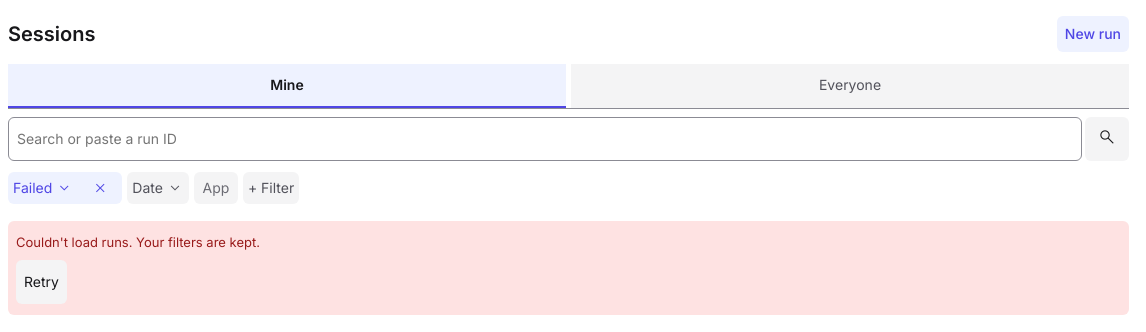
Test case: RunLibraryComponent › errors and paging › shows "Couldn't load runs" with Retry, and Retry keeps the filters
This screenshot has width=1146, height=332.
Expected: the message with class "state-error" shows "Couldn't load runs", [16,234,260,250]
Click the button "Retry" at (41, 282), box [16,260,67,304]
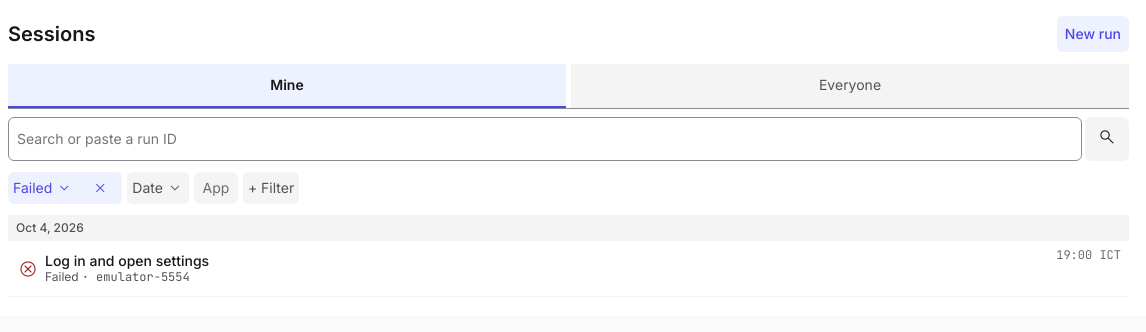
Expected: the message with class "state-error" is gone
